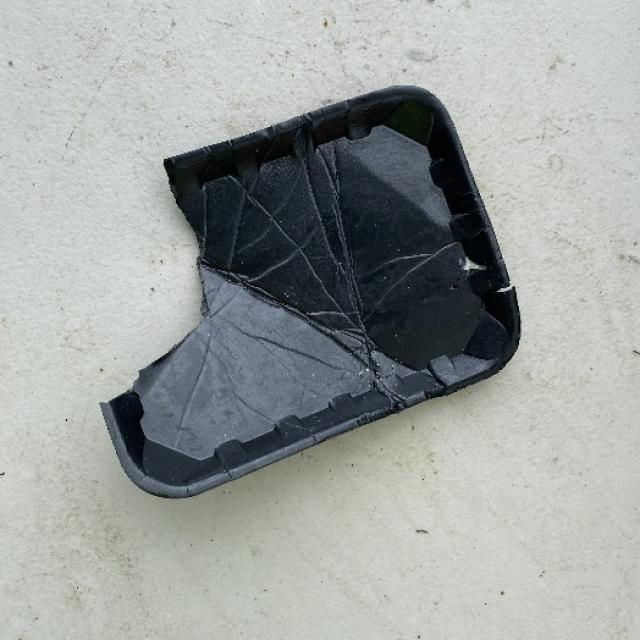styrofoam: (98, 82, 522, 498)
